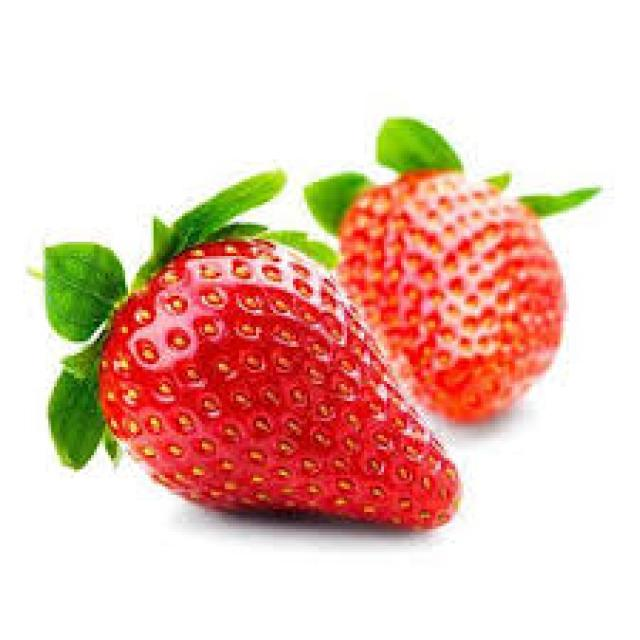strawberry: (23, 182, 469, 536), (335, 119, 592, 428)
